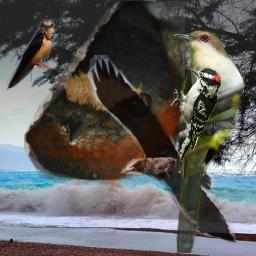Crow: (88, 55, 238, 247)
Cuckoo: (171, 29, 247, 253)
Swallow: (24, 1, 185, 185), (7, 19, 55, 91)
Woodpecker: (170, 66, 221, 160)
